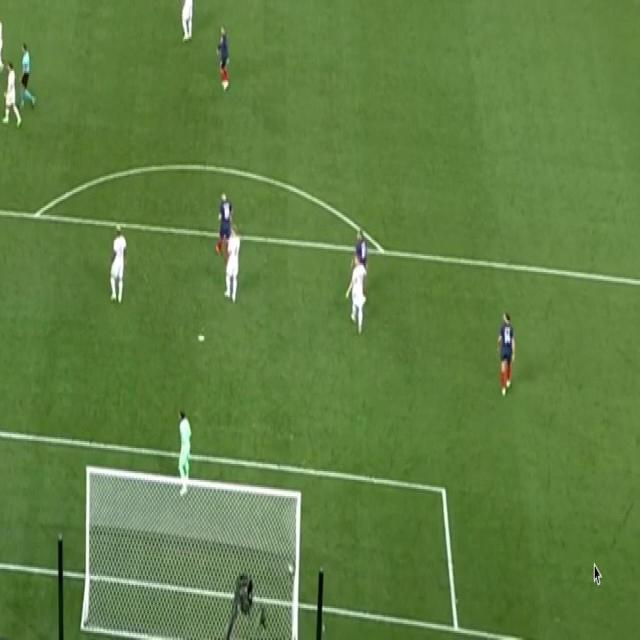player-white: (344, 253, 368, 339), (107, 220, 130, 306), (495, 310, 517, 399), (221, 224, 241, 307), (176, 405, 193, 499), (17, 40, 38, 113), (2, 61, 23, 133), (214, 189, 235, 261), (215, 22, 231, 96), (349, 227, 369, 286), (178, 0, 194, 44), (0, 9, 5, 73)
